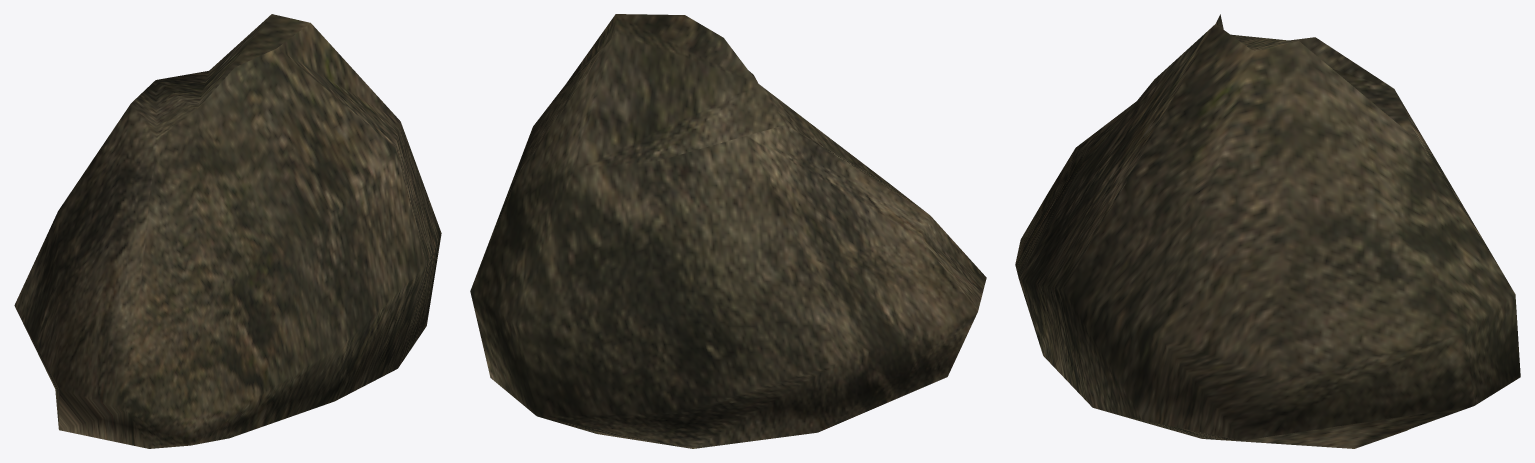
Rendered from LCRG_Rock03.fbx.
3 renders of one model, left to right at view 1: azimuth 30°, elevation 25°; view 2: azimuth 150°, elevation 25°; view 3: azimuth 270°, elevation 25°, orthographic. The views are drawn at different scales.
Parts seen in each view (by area): view 1: LCRG_Rock03; view 2: LCRG_Rock03; view 3: LCRG_Rock03.
Boxes of the visible parts, x1,y1,x2,y2 form: LCRG_Rock03: [14, 14, 441, 448]; LCRG_Rock03: [470, 14, 986, 448]; LCRG_Rock03: [1015, 14, 1520, 448].
Bounding box in the file's own units: 3.09 × 2.59 × 2.9.
